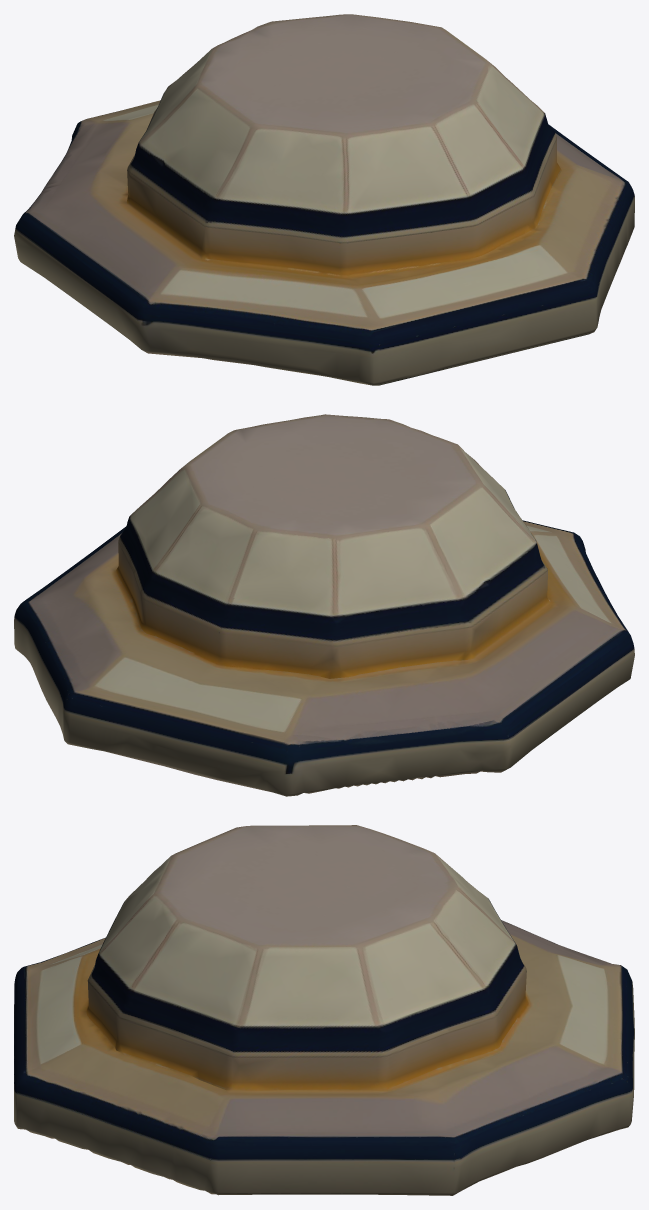
Rendered from mirror_base.glb.
3 renders of one model, top to bottom at view 1: azimuth 30°, elevation 25°; view 2: azimuth 150°, elevation 25°; view 3: azimuth 270°, elevation 25°, orthographic. The views are drawn at different scales.
Parts seen in each view (by area): view 1: world; view 2: world; view 3: world.
Boxes of the visible parts, x1,y1,x2,y2 form: world: [14, 14, 634, 385]; world: [14, 414, 634, 796]; world: [14, 825, 634, 1195].
Size of the model in its own units: 0.6778 by 0.2385 by 0.7032.
1 material, 1 textured.
